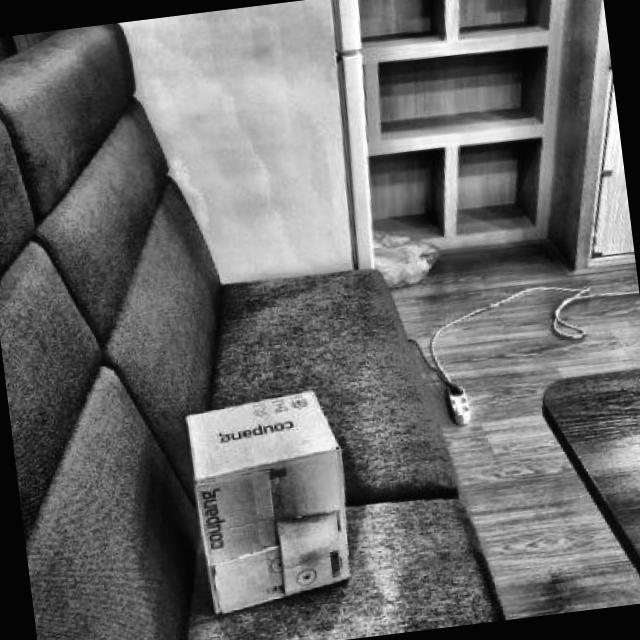box: (167, 369, 396, 640)
